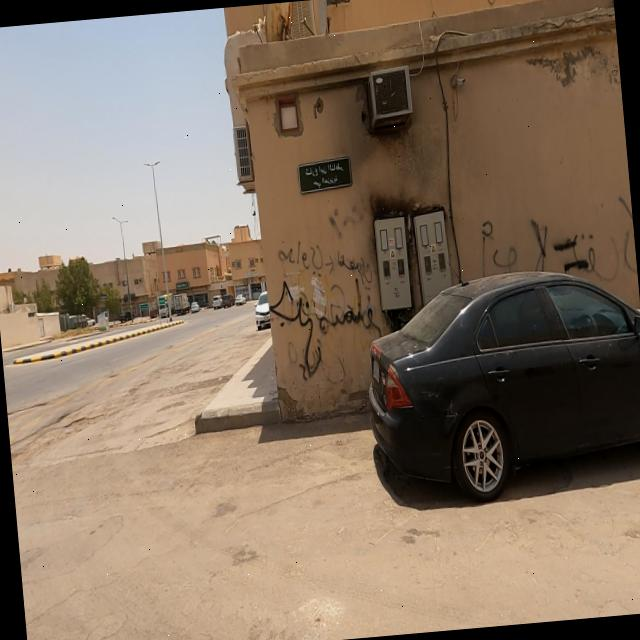Graffiti: (262, 202, 385, 349), (468, 196, 637, 279), (285, 342, 347, 392)
